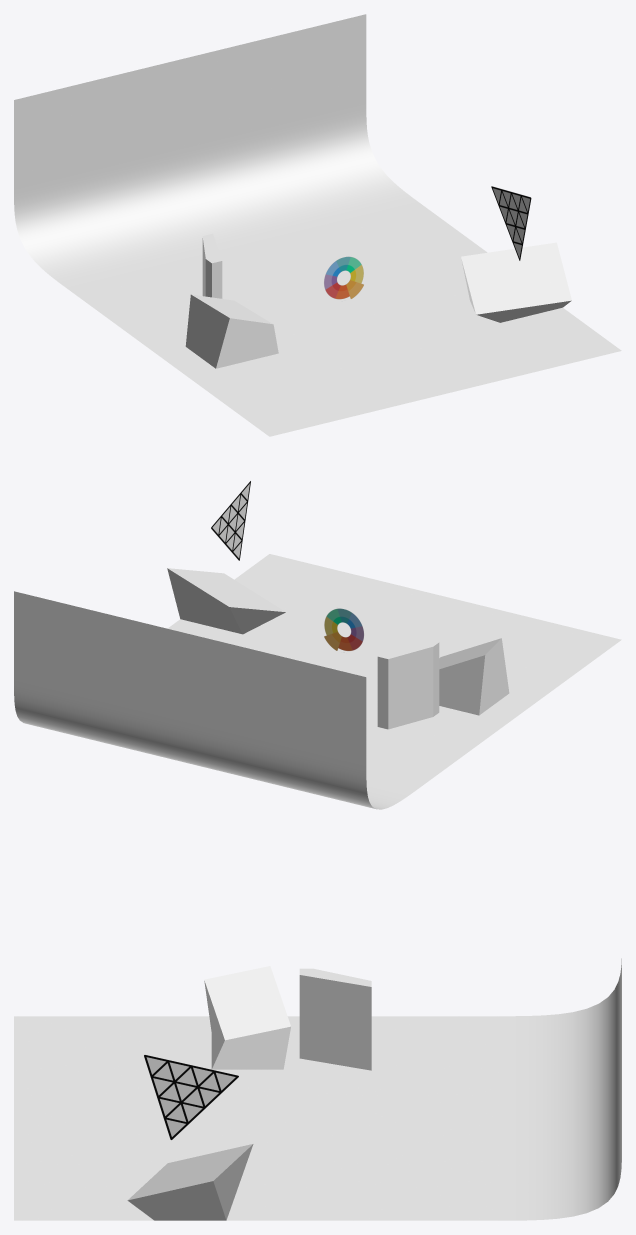
Rendered from billboard_low.glb.
3 renders of one model, top to bottom at view 1: azimuth 30°, elevation 25°; view 2: azimuth 150°, elevation 25°; view 3: azimuth 270°, elevation 25°, orthographic. The views are drawn at different scales.
Parts seen in each view (by area): view 1: ground, billboard2, billboard; view 2: ground, billboard2, billboard; view 3: ground, billboard2.
Part boxes in pixels (<box>): ground: <box>14,14,621,436</box>; billboard2: <box>491,186,531,260</box>; billboard: <box>324,256,363,299</box>; ground: <box>14,554,621,809</box>; billboard2: <box>211,481,250,560</box>; billboard: <box>324,608,363,650</box>; ground: <box>14,958,621,1220</box>; billboard2: <box>144,1055,238,1139</box>.
Size of the model in its own units: 17.82 by 6.87 by 21.26.
3 materials, 3 textured.
